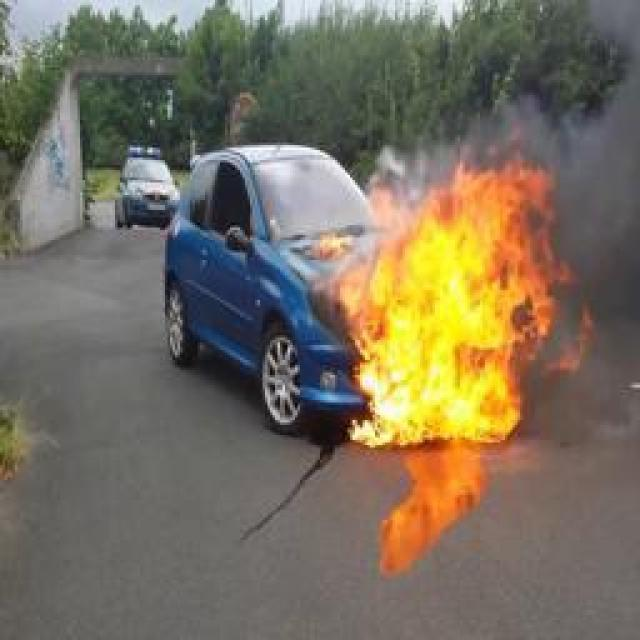Fire: (318, 148, 594, 446)
